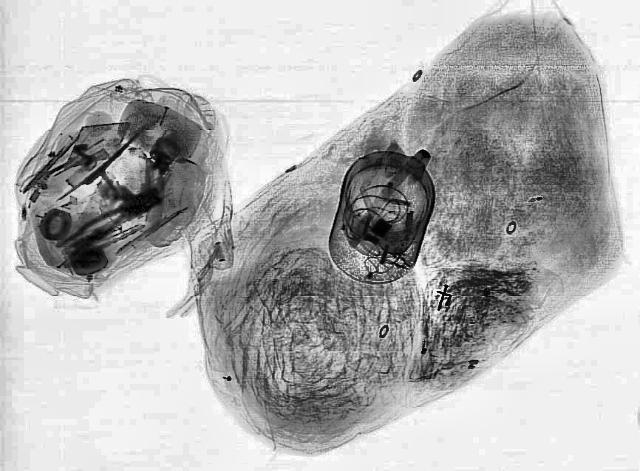Pliers: (48, 184, 166, 258)
